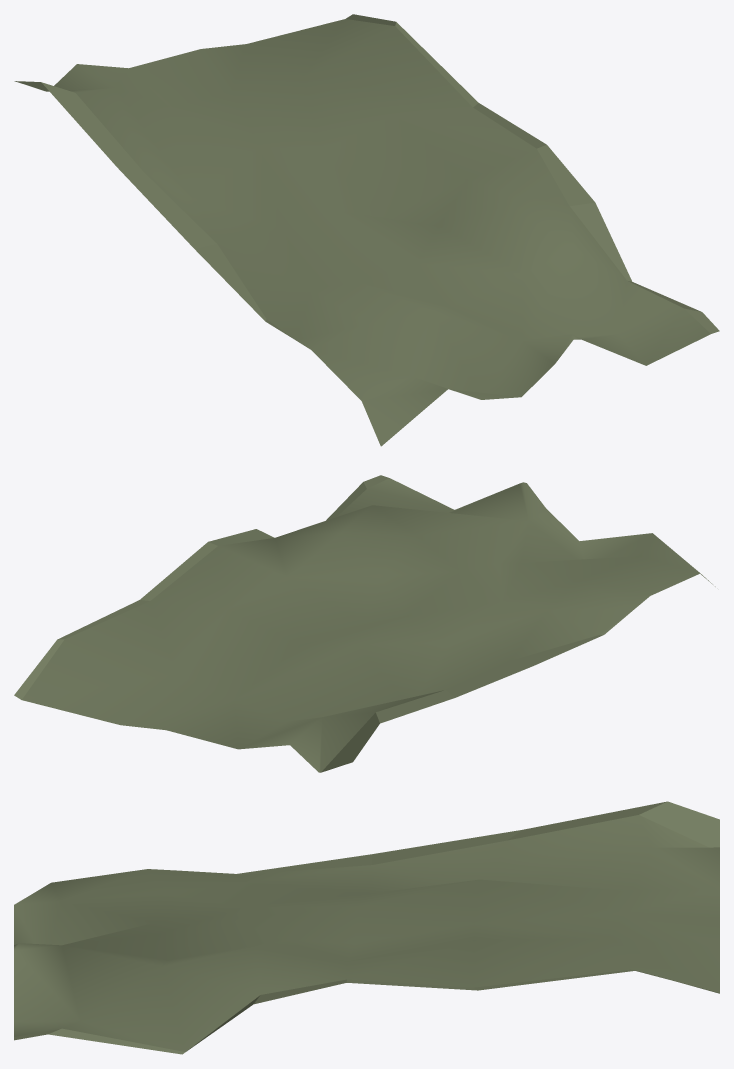
Rendered from Armored_chest_Crystals.FBX.
The picture shows the model from 3 angles, top to bottom: view 1: azimuth 30°, elevation 25°; view 2: azimuth 150°, elevation 25°; view 3: azimuth 270°, elevation 25°; orthographic projection. The views are drawn at different scales.
Visible parts, largest first — view 1: Armored_chest_Crystals; view 2: Armored_chest_Crystals; view 3: Armored_chest_Crystals.
Part boxes in pixels (x1=…): Armored_chest_Crystals: x1=14, y1=14, x2=719, y2=446; Armored_chest_Crystals: x1=14, y1=475, x2=715, y2=772; Armored_chest_Crystals: x1=14, y1=801, x2=719, y2=1054.
Size of the model in its own units: 86.81 by 163 by 28.37.
